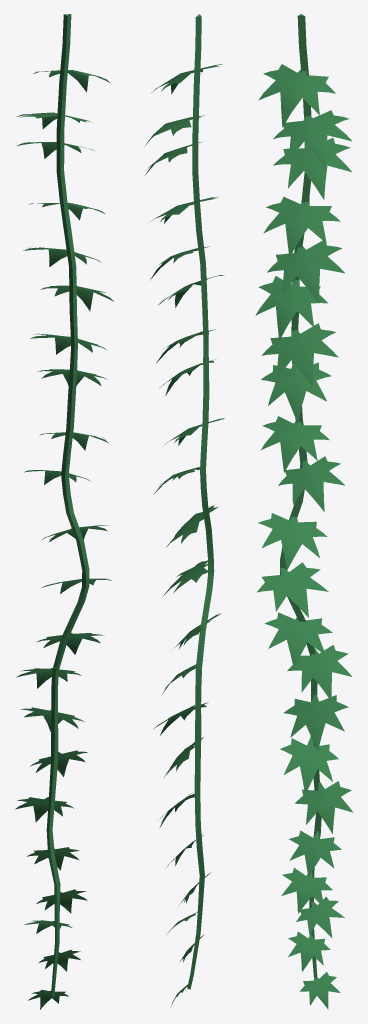
The model's file is vine_curved_B_alangium.fbx.
The picture shows the model from 3 angles, left to right: view 1: azimuth 90°, elevation 25°; view 2: azimuth 150°, elevation 25°; view 3: azimuth 270°, elevation 25°; orthographic projection.
Parts seen in each view (by area): view 1: vine_curved_B_alangium_root, vine_alangium_A_leaf_B487, vine_alangium_A_leaf_B483, vine_alangium_A_leaf_B477, vine_alangium_A_leaf_B486, vine_alangium_A_leaf_B485, vine_alangium_A_leaf_B489, vine_alangium_A_leaf_B484, vine_alangium_A_leaf_B476, vine_alangium_A_leaf_B488, vine_alangium_A_leaf_B478, vine_alangium_A_leaf_B475 (+9 smaller); view 2: vine_curved_B_alangium_root, vine_alangium_A_leaf_B482, vine_alangium_A_leaf_B481, vine_alangium_A_leaf_B472, vine_alangium_A_leaf_B471, vine_alangium_A_leaf_B474, vine_alangium_A_leaf_B485, vine_alangium_A_leaf_B473, vine_alangium_A_leaf_B486, vine_alangium_A_leaf_B477, vine_alangium_A_leaf_B478; view 3: vine_curved_B_alangium_root, vine_alangium_A_leaf_B475, vine_alangium_A_leaf_B476, vine_alangium_A_leaf_B471, vine_alangium_A_leaf_B474, vine_alangium_A_leaf_B472, vine_alangium_A_leaf_B477, vine_alangium_A_leaf_B473, vine_alangium_A_leaf_B481, vine_alangium_A_leaf_B482, vine_alangium_A_leaf_B478, vine_alangium_A_leaf_B479 (+11 smaller).
Part boxes in pixels (box(x1,y1,x2,y2)): vine_curved_B_alangium_root: box(46, 14, 89, 997); vine_alangium_A_leaf_B487: box(15, 797, 73, 822); vine_alangium_A_leaf_B483: box(36, 632, 104, 654); vine_alangium_A_leaf_B477: box(40, 284, 113, 311); vine_alangium_A_leaf_B486: box(30, 750, 87, 776); vine_alangium_A_leaf_B485: box(20, 707, 84, 731); vine_alangium_A_leaf_B489: box(36, 889, 87, 913); vine_alangium_A_leaf_B484: box(16, 667, 81, 688); vine_alangium_A_leaf_B476: box(30, 333, 106, 354); vine_alangium_A_leaf_B488: box(27, 847, 79, 870); vine_alangium_A_leaf_B478: box(38, 369, 106, 385); vine_alangium_A_leaf_B475: box(23, 246, 101, 266); vine_curved_B_alangium_root: box(187, 14, 214, 989); vine_alangium_A_leaf_B482: box(162, 560, 208, 596); vine_alangium_A_leaf_B481: box(166, 505, 218, 547); vine_alangium_A_leaf_B472: box(145, 115, 204, 145); vine_alangium_A_leaf_B471: box(151, 64, 222, 94); vine_alangium_A_leaf_B474: box(150, 197, 218, 223); vine_alangium_A_leaf_B485: box(154, 702, 208, 735); vine_alangium_A_leaf_B473: box(145, 142, 201, 175); vine_alangium_A_leaf_B486: box(164, 737, 203, 777); vine_alangium_A_leaf_B477: box(158, 275, 224, 307); vine_alangium_A_leaf_B478: box(159, 359, 215, 395); vine_curved_B_alangium_root: box(280, 14, 321, 980); vine_alangium_A_leaf_B475: box(267, 240, 345, 303); vine_alangium_A_leaf_B476: box(261, 323, 338, 386); vine_alangium_A_leaf_B471: box(258, 64, 335, 127); vine_alangium_A_leaf_B474: box(263, 197, 340, 257); vine_alangium_A_leaf_B472: box(273, 110, 352, 169); vine_alangium_A_leaf_B477: box(255, 276, 328, 340); vine_alangium_A_leaf_B473: box(273, 138, 352, 199); vine_alangium_A_leaf_B481: box(258, 513, 327, 570); vine_alangium_A_leaf_B482: box(257, 562, 328, 617); vine_alangium_A_leaf_B478: box(261, 362, 331, 422); vine_alangium_A_leaf_B479: box(260, 416, 329, 472).
Bounding box in the file's own units: 25.25 × 410 × 37.06.
